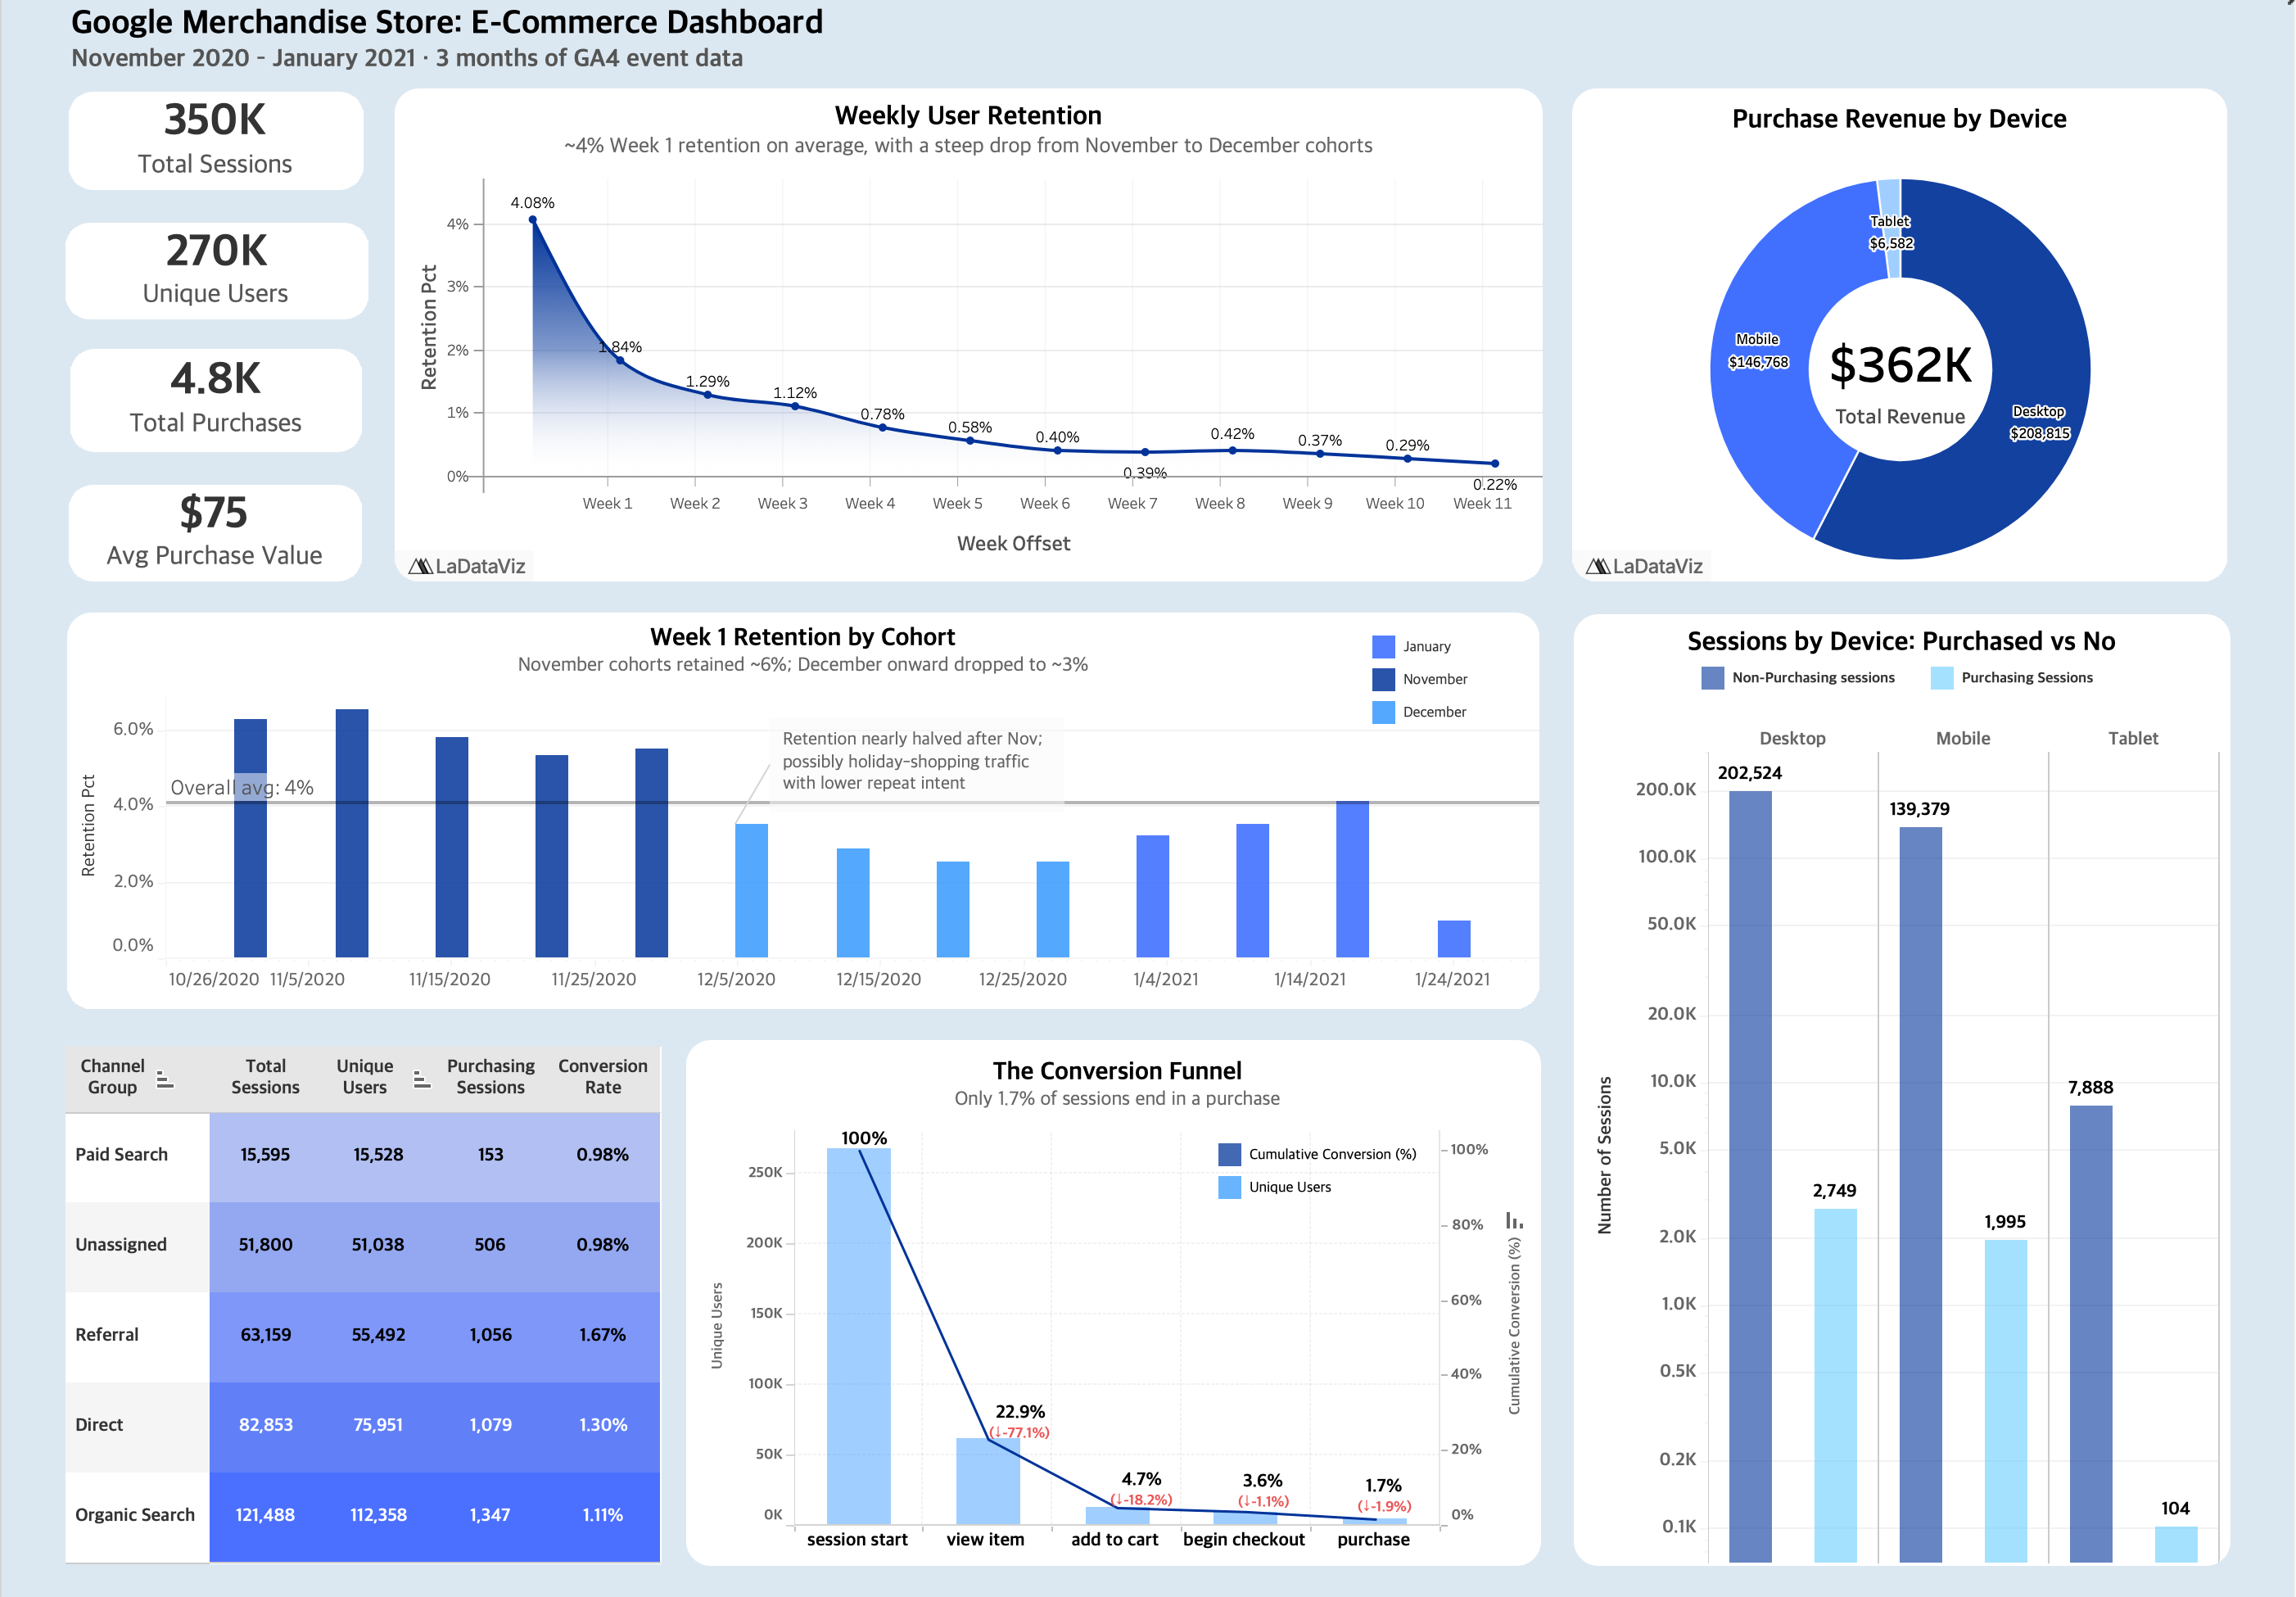

What the dashboard file says about the page in this screenshot:
{"tool":"tableau","page":{"name":"GA4 Analytics","canvas":[1400,1000],"ordinal":0},"visuals":[{"type":"title","box":[40,21,536,51]},{"type":"worksheet","title":"Weekly User Retention","box":[240,79,701,301]},{"type":"worksheet","title":"Purchasing Sessions by Device","box":[959,79,400,301]},{"type":"worksheet","title":"total sessions kpi","mark":"Automatic","box":[41,81,180,60]},{"type":"worksheet","title":"unique users kpi","mark":"Automatic","box":[39,161,185,59]},{"type":"worksheet","title":"total purchases kpi","mark":"Automatic","box":[42,238,178,63]},{"type":"worksheet","title":"Avg Purchase Value kpi","mark":"Automatic","box":[41,321,179,59]},{"type":"worksheet","title":"Week 1 Cohort Retention","mark":"Bar","rows":["Calculation_2149283632070663"],"cols":["cohort_week"],"box":[40,399,899,242]},{"type":"worksheet","title":"Total Sessions by Device Type","mark":"Automatic","cols":["device_type"],"box":[960,400,401,581]},{"type":"legend","title":"Week 1 Cohort Retention","param":"[federated.02ovghu0sm3hxe1elzzm30pv1d4j].[none:Calculation_2149284023758859:nk]","box":[818,420,140,78]},{"type":"legend","title":"Total Sessions by Device Type","param":"[federated.0gfexvf0grtkcy17szd2y0v59ym9].[:Measure Names]","box":[1035,429,283,19]},{"type":"worksheet","title":"Metricks by Acquisition Channel","mark":"Square","rows":["channel_group"],"box":[39,659,364,321]},{"type":"worksheet","title":"Where do users drop off in the conversion funnel?","mark":"Line","rows":["unique_users","Calculation_2149282166476801"],"cols":["event_name"],"box":[418,660,522,321]},{"type":"legend","title":"Where do users drop off in the conversion funnel?","param":"[federated.0rmmu3008bfsil193l83g1z131z9].[:Measure Names]","box":[740,720,137,59]}]}

Visuals, with their boxes in screenshot pixels (x1, y1, x2, y2), scaled from the page's 1400x1000 canvas onto the 2296x1597 screenshot:
title: {"left": 66, "top": 34, "right": 945, "bottom": 115}
"Weekly User Retention" worksheet: {"left": 394, "top": 126, "right": 1543, "bottom": 607}
"Purchasing Sessions by Device" worksheet: {"left": 1573, "top": 126, "right": 2229, "bottom": 607}
"total sessions kpi" worksheet: {"left": 67, "top": 129, "right": 363, "bottom": 225}
"unique users kpi" worksheet: {"left": 64, "top": 257, "right": 368, "bottom": 351}
"total purchases kpi" worksheet: {"left": 69, "top": 380, "right": 361, "bottom": 481}
"Avg Purchase Value kpi" worksheet: {"left": 67, "top": 513, "right": 361, "bottom": 607}
"Week 1 Cohort Retention" worksheet (Bar marks): {"left": 66, "top": 637, "right": 1540, "bottom": 1024}
"Total Sessions by Device Type" worksheet: {"left": 1575, "top": 639, "right": 2232, "bottom": 1567}
"Week 1 Cohort Retention" legend: {"left": 1341, "top": 671, "right": 1571, "bottom": 795}
"Total Sessions by Device Type" legend: {"left": 1697, "top": 685, "right": 2162, "bottom": 716}
"Metricks by Acquisition Channel" worksheet (Square marks): {"left": 64, "top": 1052, "right": 661, "bottom": 1565}
"Where do users drop off in the conversion funnel?" worksheet (Line marks): {"left": 685, "top": 1054, "right": 1542, "bottom": 1567}
"Where do users drop off in the conversion funnel?" legend: {"left": 1214, "top": 1150, "right": 1439, "bottom": 1244}
